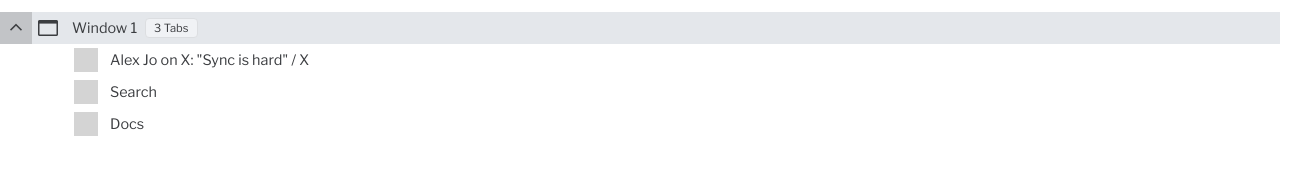
it: the rename field (KAN-824) › renaming another tab first saves the one being renamed
Right-click the button "Alex Jo on X: \"Sync is hard\" / X" at (210, 60), box [70,44,1280,76]
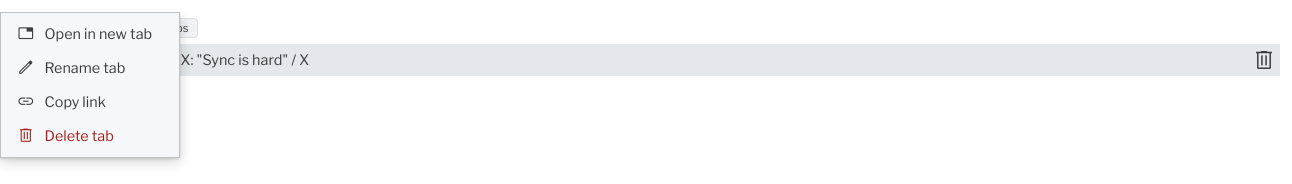
Click the menu item "Rename tab". click: (90, 68)
box: [5,51,175,85]
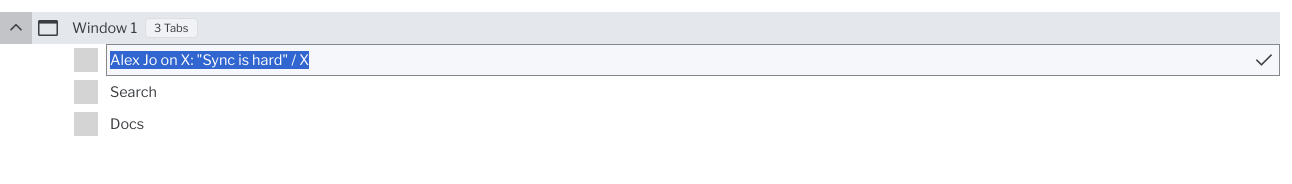
Type "Sync notes" into the field named "Rename tab: Alex Jo on X: \"Sync is hard\" / X". click: (693, 60)
box: [106,44,1280,76]
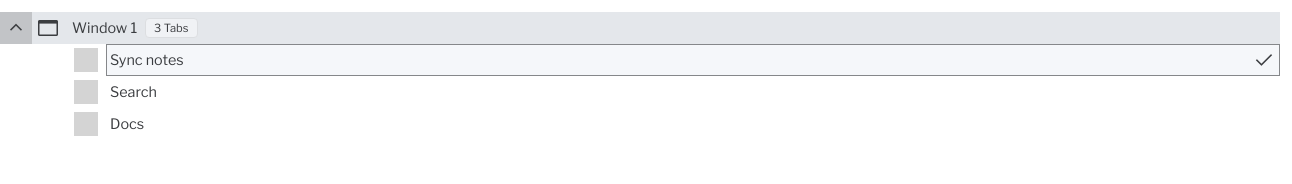
Right-click the button "Docs" at (127, 124), box [70,108,1280,140]
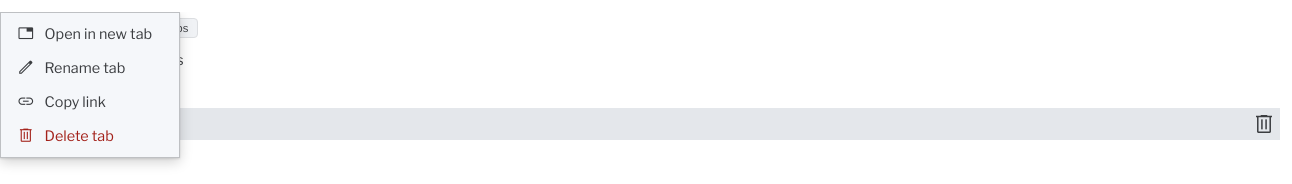
Click the menu item "Rename tab". click: (90, 68)
box: [5,51,175,85]
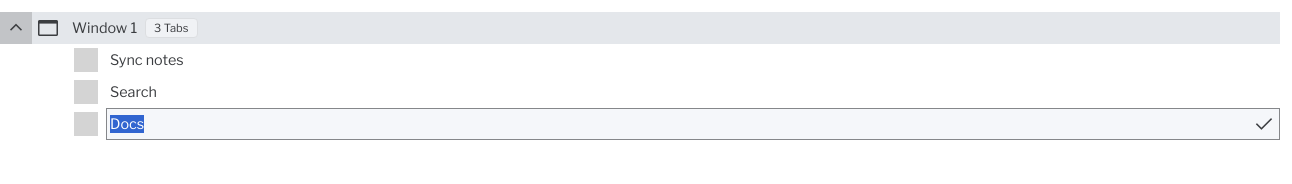
Expected: the text "Sync notes" is shown, [110,51,184,69]
Expected: the number of fields is 1, [106,108,1280,140]
